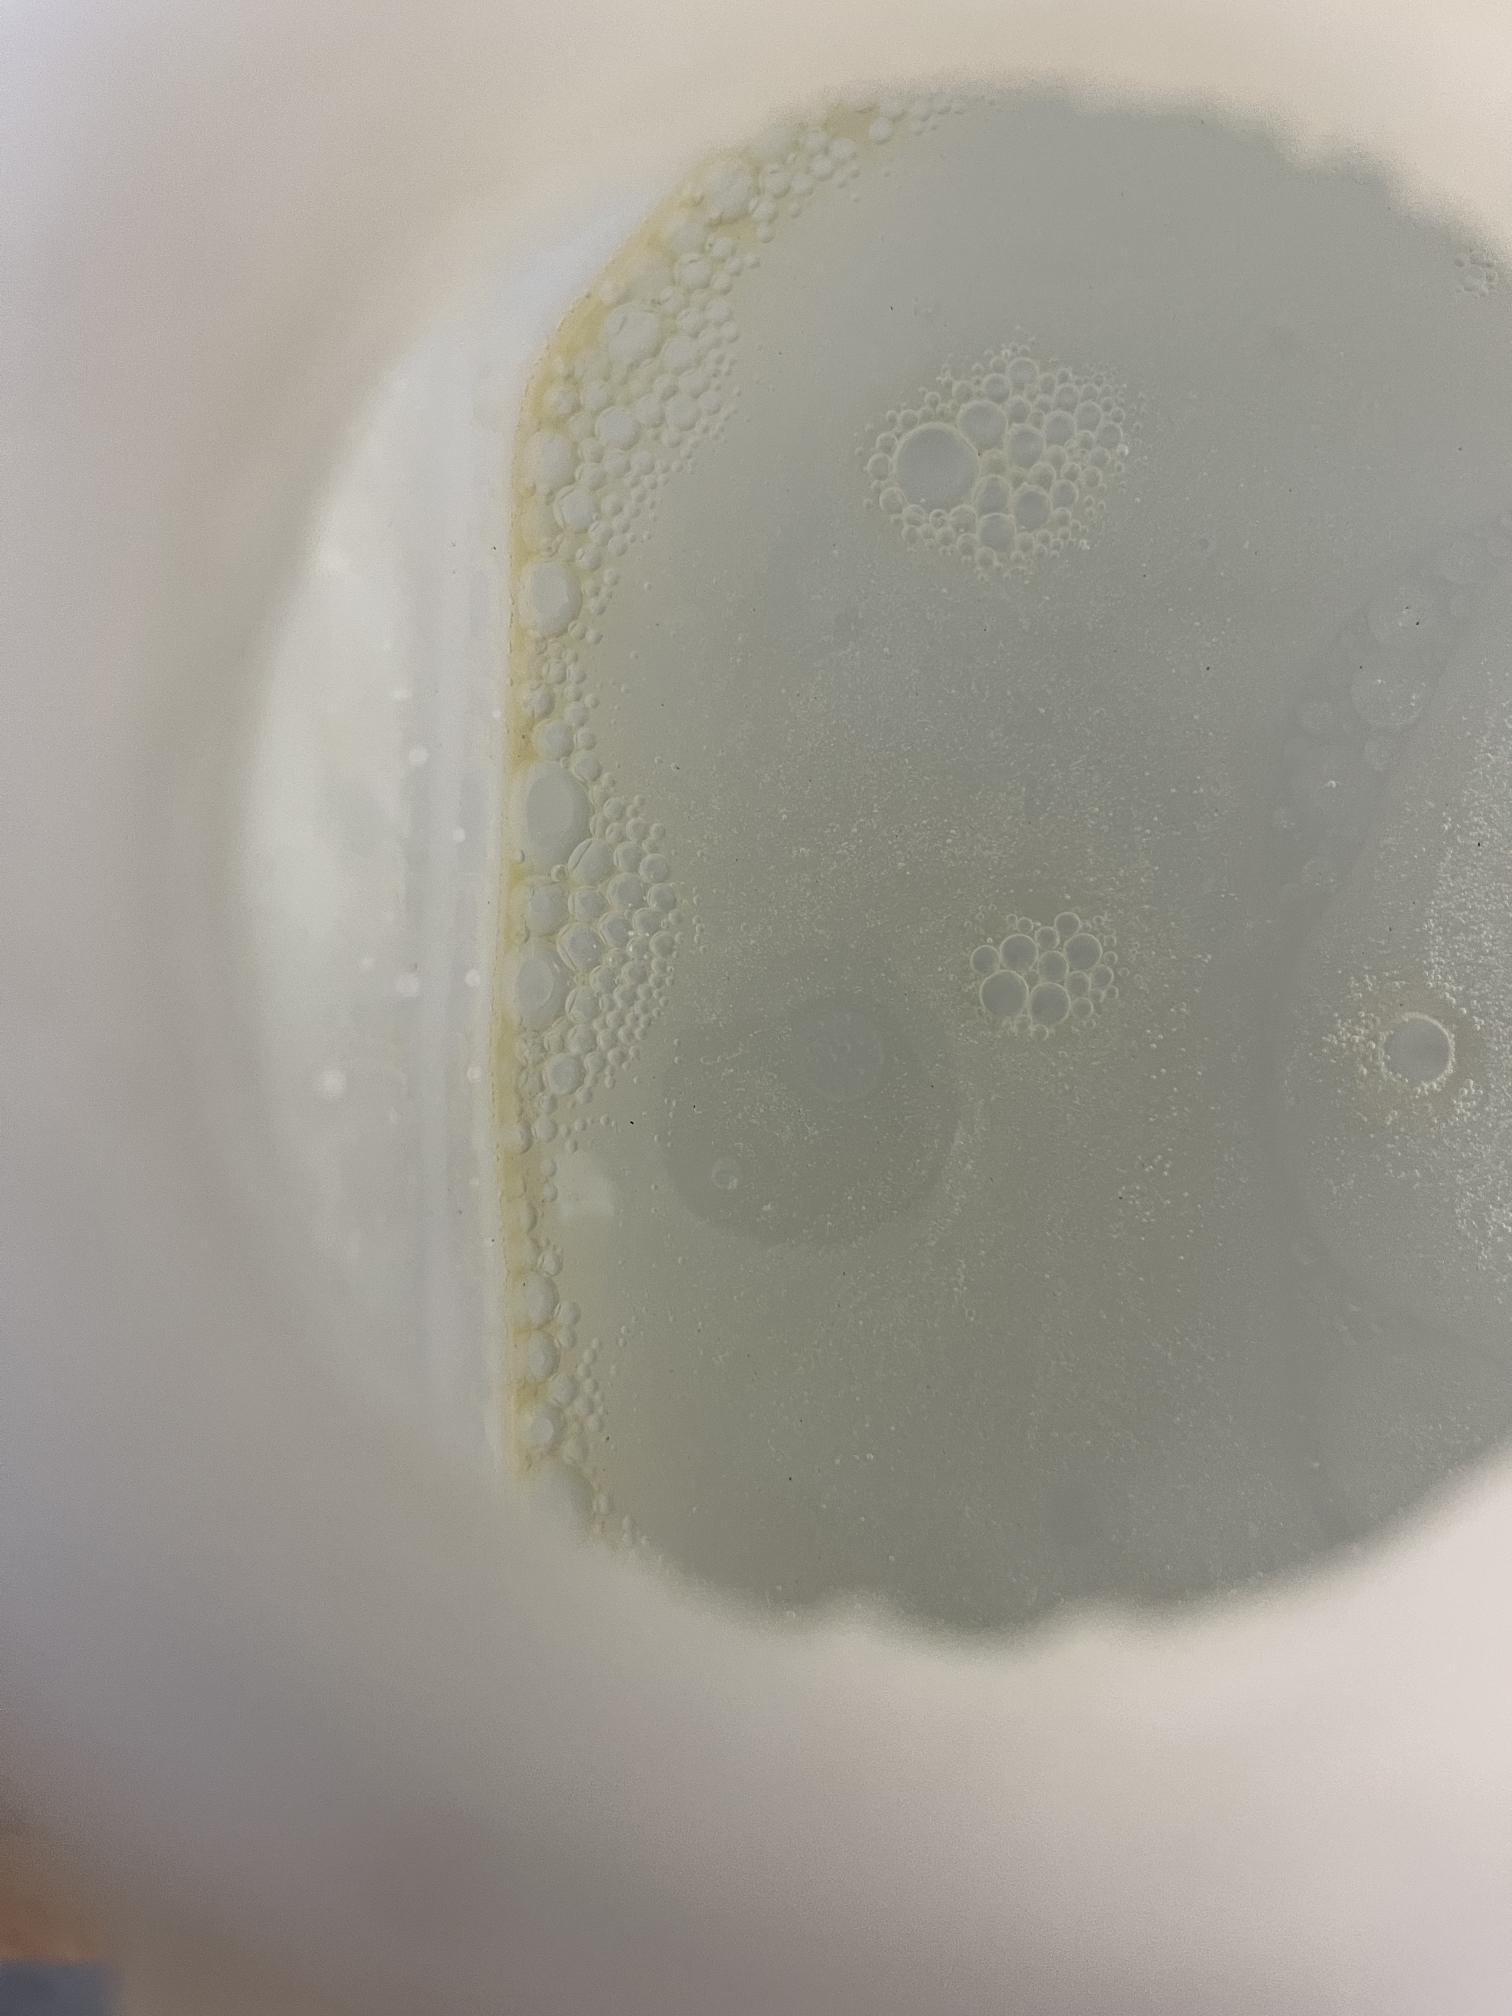Presenca de Oleo - - 170ml: (335, 65, 1471, 1810)
